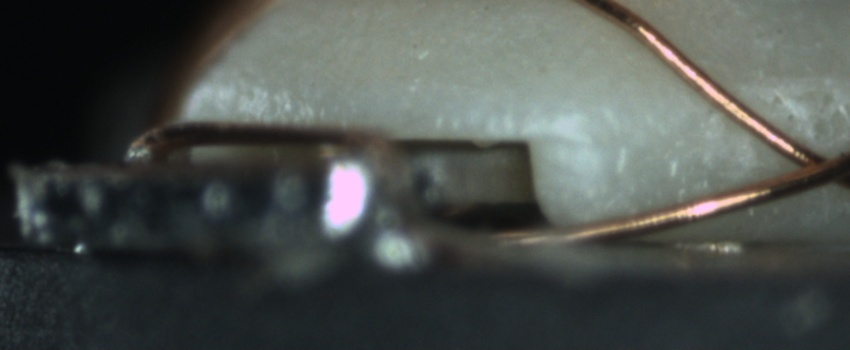CL: (758, 128, 849, 202)
DL: (597, 55, 850, 119)
TE: (120, 118, 406, 167)
